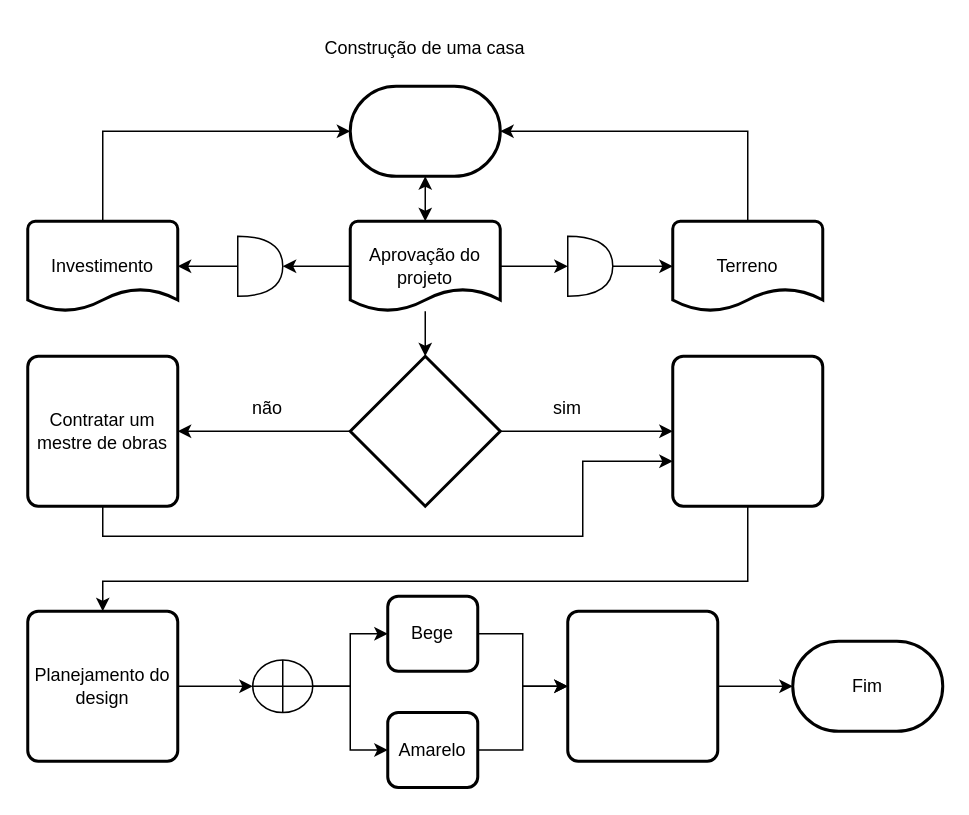
Image size: 969x815. Some labels were removed from this diagram. Here are the shapes that lost their labels. From the top down, the centre of each, then its label:
At point 424,130: "Início".
At point 424,430: "Contratar Construtora?".
At point 747,430: "construindo...".
At point 642,685: "construída".
